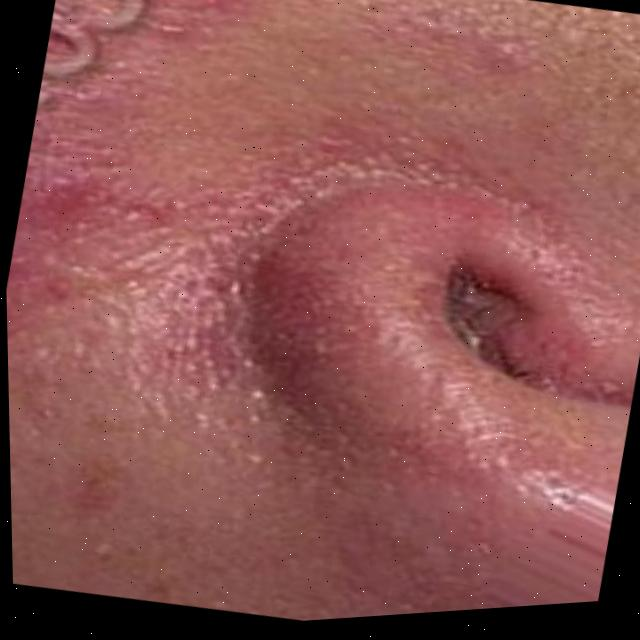Rosacea: (3, 103, 287, 446)
